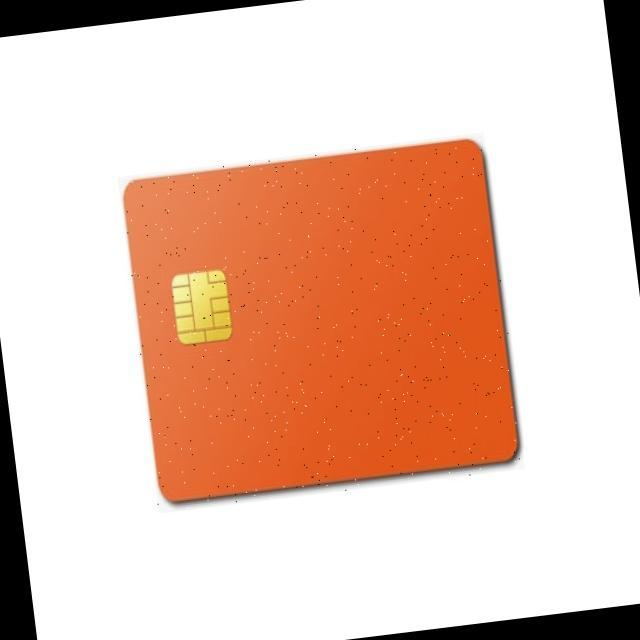payment_card: (121, 136, 520, 503)
